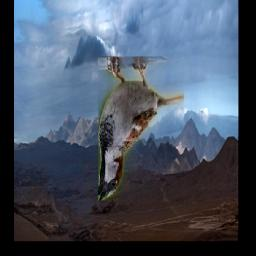Sparrow: (98, 56, 184, 201)
